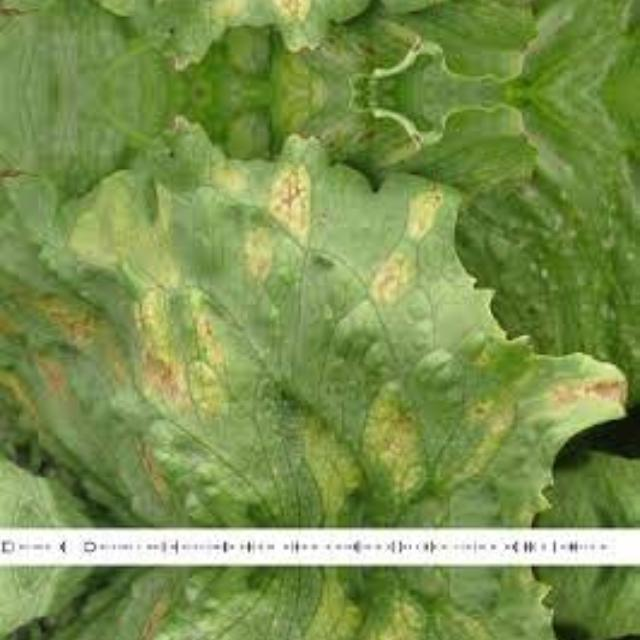Downy_mildew: (22, 128, 640, 534), (22, 559, 640, 640), (22, 0, 640, 55)
